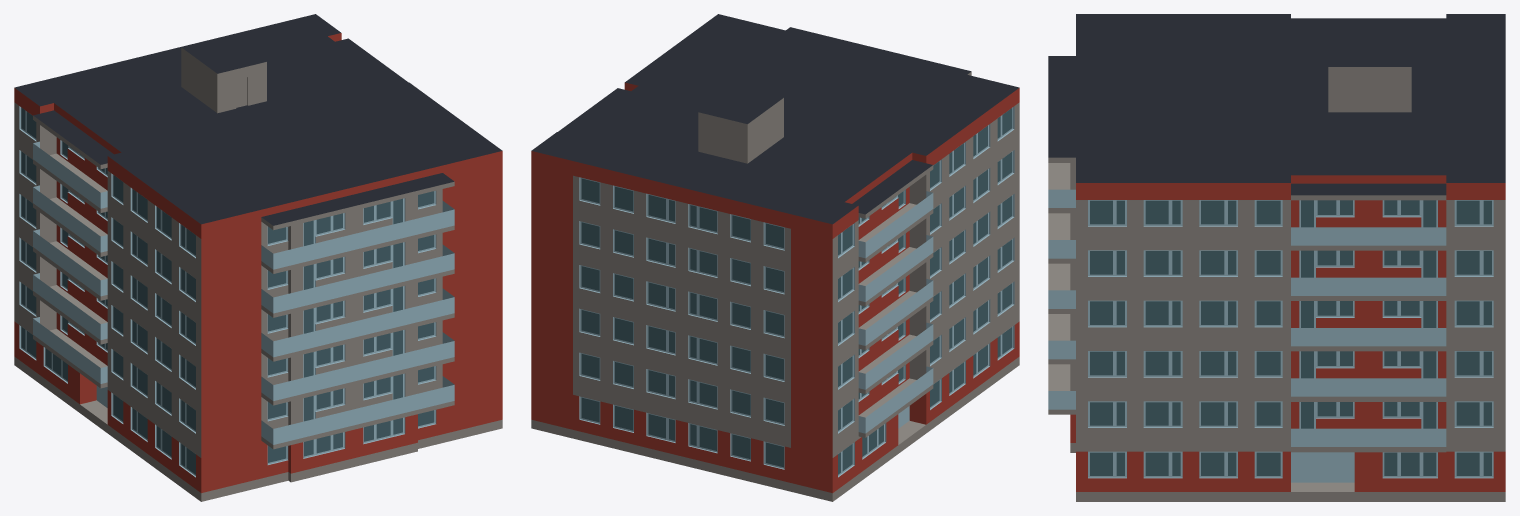
Rendered from flat-house_02.fbx.
3 renders of one model, left to right at view 1: azimuth 30°, elevation 25°; view 2: azimuth 150°, elevation 25°; view 3: azimuth 270°, elevation 25°, orthographic. The views are drawn at different scales.
Visible parts, largest first — view 1: flat-house_02; view 2: flat-house_02; view 3: flat-house_02.
Part boxes in pixels (left/top/right/bottom): flat-house_02: left=14, top=14, right=502, bottom=501; flat-house_02: left=531, top=14, right=1019, bottom=501; flat-house_02: left=1048, top=14, right=1505, bottom=501.
Size of the model in its own units: 2260 by 2170 by 2470.
